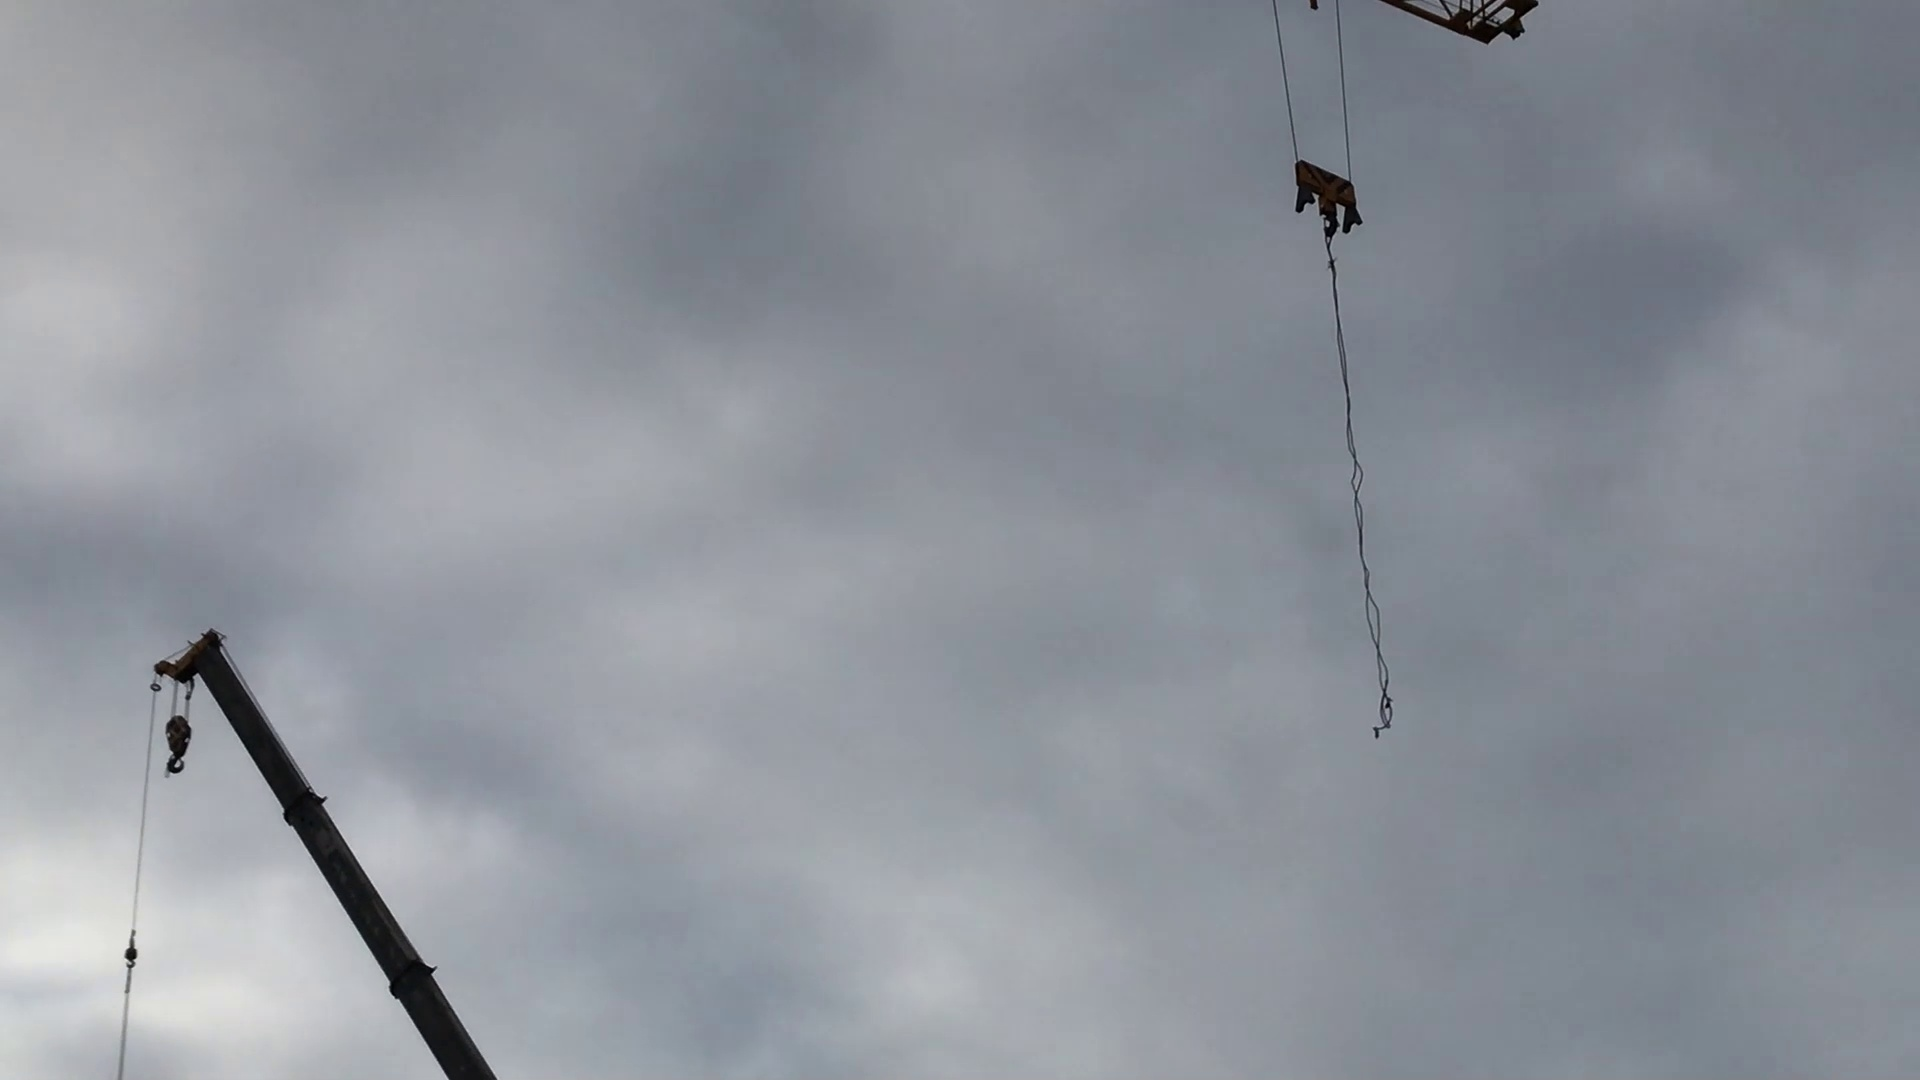hook: (1287, 153, 1371, 251), (160, 705, 208, 782)
